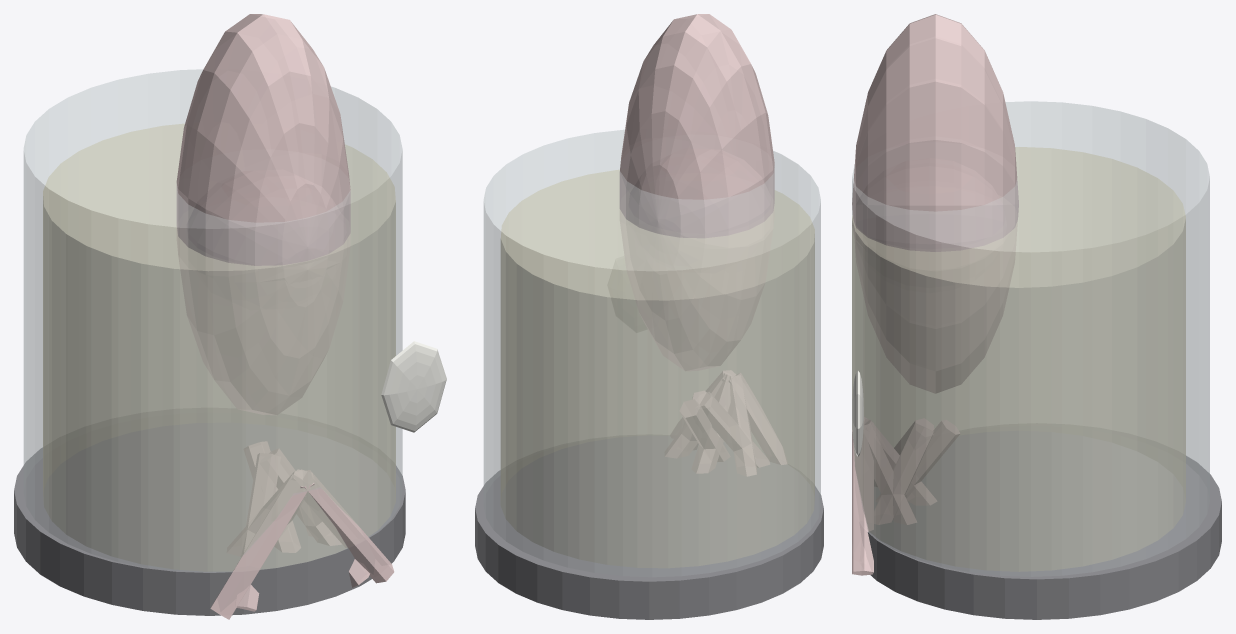
The model's file is specimen-jar.glb.
3 views of the same model, side by side, from view 1: azimuth 30°, elevation 25°; view 2: azimuth 150°, elevation 25°; view 3: azimuth 270°, elevation 25° (orthographic). The views are drawn at different scales.
Parts seen in each view (by area): view 1: jar, liq, mantle, cap, tag, ten4, ten0, ten3, ten1, ten2, shead, ten5; view 2: jar, liq, cap, mantle, ten4, ten3, ten5, ten2, ten6, ten7; view 3: jar, liq, cap, mantle, ten0, ten1, ten7, ten2, ten6, tag.
Part boxes in pixels (x1,y1,x2,y2): jar: (23, 69, 402, 572); liq: (43, 123, 395, 571); mantle: (176, 14, 350, 414); cap: (14, 422, 405, 615); tag: (381, 341, 446, 432); ten4: (210, 474, 310, 619); ten0: (303, 470, 394, 583); ten3: (237, 453, 277, 611); ten1: (269, 448, 369, 587); ten2: (244, 441, 300, 552); shead: (260, 258, 340, 284); ten5: (227, 471, 305, 555); jar: (483, 129, 820, 576); liq: (500, 169, 814, 567); cap: (475, 435, 823, 619); mantle: (619, 14, 774, 370); ten4: (729, 373, 786, 464); ten3: (700, 392, 769, 467); ten5: (729, 375, 756, 476); ten2: (679, 399, 730, 461); ten6: (692, 375, 730, 473); ten7: (665, 373, 725, 457); jar: (852, 101, 1209, 576); liq: (852, 147, 1185, 571); cap: (861, 430, 1221, 619); mantle: (852, 14, 1018, 393); ten0: (852, 425, 873, 575); ten1: (874, 423, 933, 524); ten7: (852, 423, 916, 524); ten2: (875, 420, 960, 502); ten6: (864, 420, 936, 505); tag: (852, 371, 863, 456).
Size of the model in its own units: 1.24 by 1.95 by 1.24.
